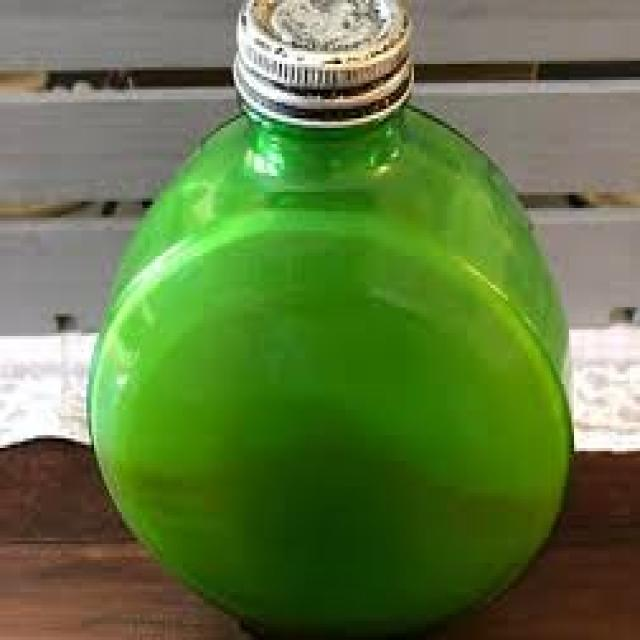glass: (84, 93, 571, 637)
metal: (229, 0, 412, 125)
